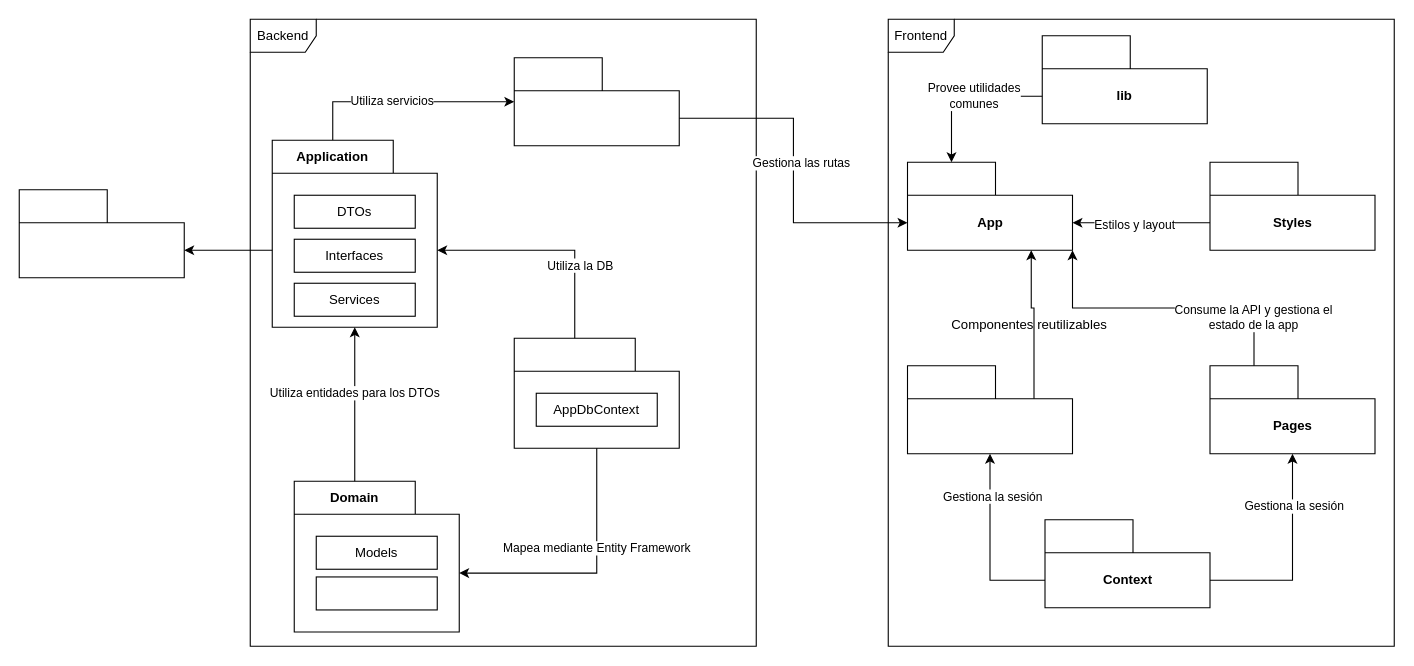
The diagram is 1414 pixels wide and 666 high, and some of its shapes have lost their labels. Each missing label, with the centre of its shape:
"Components" goes at (989,409).
"Controllers" goes at (596,101).
"Enums" goes at (376,593).
"Infrastructure" goes at (596,392).
"OmdbAPI" goes at (101,233).
